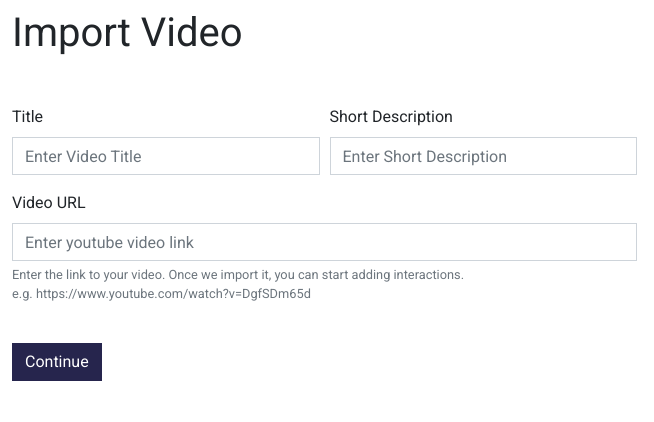
Test case: component should render with all basic sections › Should not submit, if url field is empty
The width and height of the screenshot is (654, 422).
In the field with placeholder "Enter Video Title": (166, 156) top-left (12, 137), bottom-right (320, 175), type "titleInput"
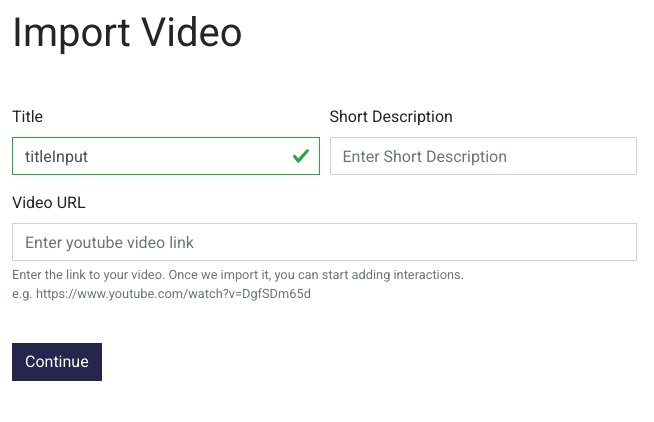
Press the mouse on the field with placeholder "Enter Video Title": (166, 156) top-left (12, 137), bottom-right (320, 175)
Click the button "Continue": click(57, 362) top-left (12, 343), bottom-right (102, 381)
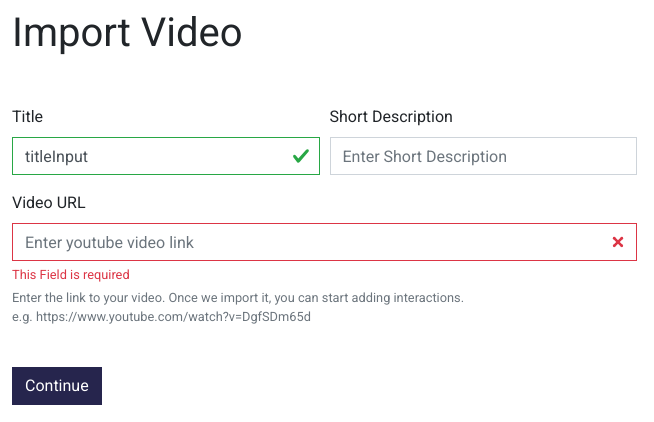
Now the text "This Field is required" is shown, box top-left (12, 267), bottom-right (130, 282)
